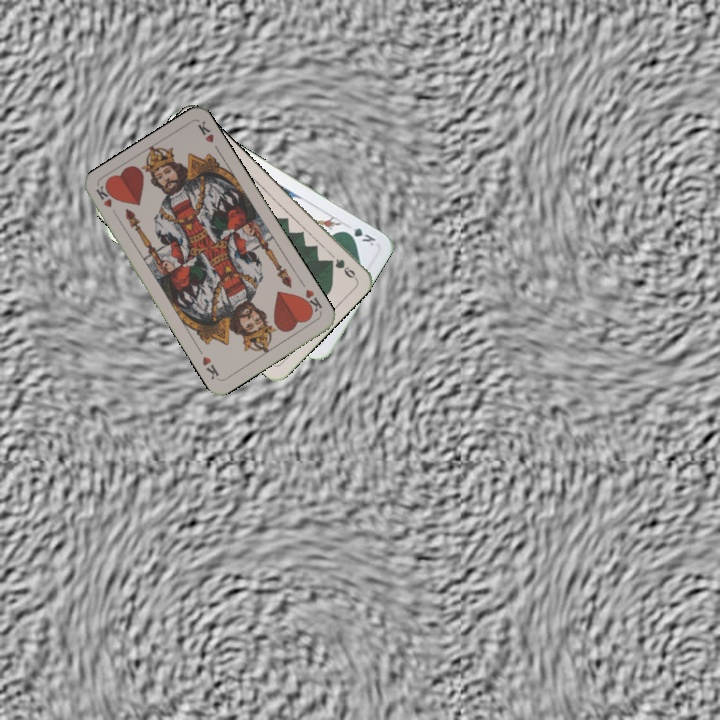G9: (331, 255, 358, 281)
GK: (340, 223, 379, 249)
HK: (92, 182, 121, 221), (298, 285, 325, 317)
